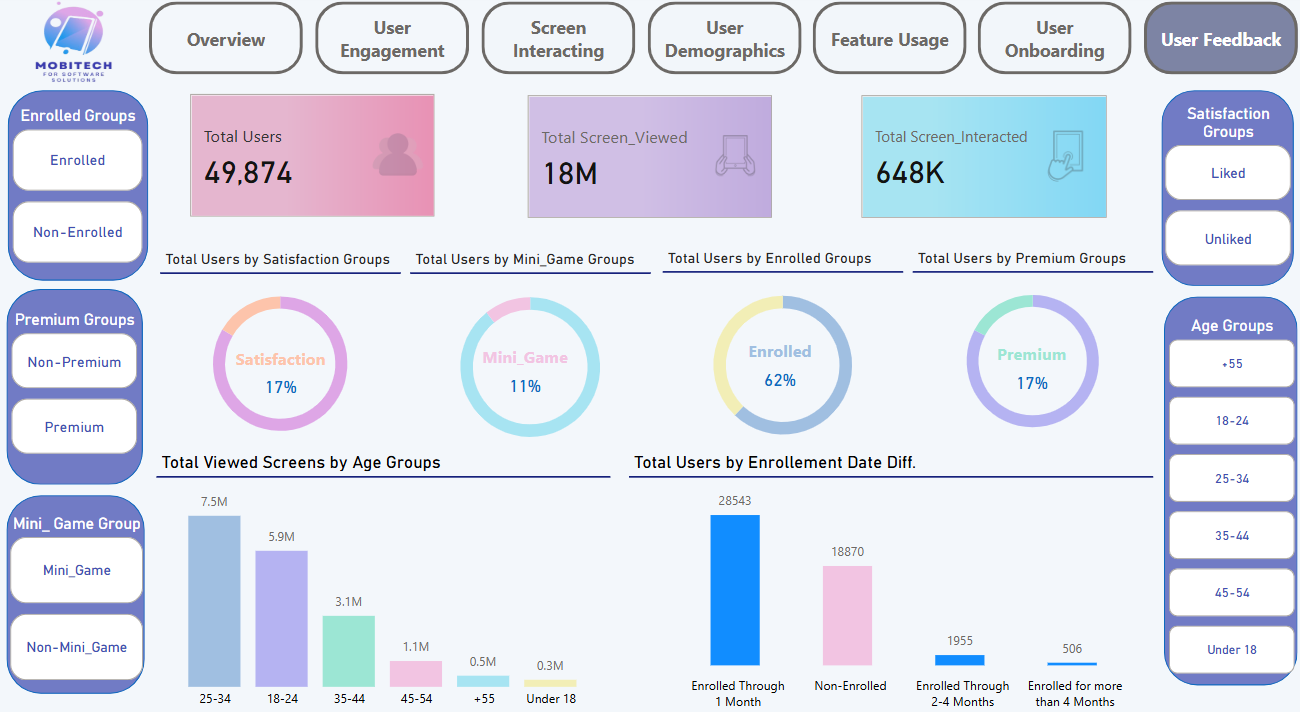

The page's visual inventory and layout, read from the dashboard file:
{"tool":"powerbi","page":{"name":"User Feedback","canvas":[1280,720],"ordinal":9},"visuals":[{"type":"actionButton","box":[634.1,7.9,150.6,71.3],"z":0},{"type":"group","id":"g1","title":"Group 2","box":[8.1,94.1,137.4,186.3],"z":0,"group":"g15"},{"type":"shape","box":[8.1,94.1,137.4,186.3],"z":0,"group":"g1"},{"type":"group","id":"g2","title":"Group 3","box":[1136,94.1,133.4,191.5],"z":0,"group":"g8"},{"type":"shape","box":[1136.8,94.1,129.4,191.5],"z":0,"group":"g2"},{"type":"donutChart","fields":{"Y":["Total.Total Users"],"Category":["appdata10.Enrolled Groups"]},"box":[648.7,249.1,235.1,203.4],"z":0,"group":"g10"},{"type":"donutChart","fields":{"Y":["Total.Total Users"],"Category":["appdata10.Premium Groups"]},"box":[894.3,249.6,235.1,195.5],"z":0,"group":"g11"},{"type":"donutChart","fields":{"Y":["Total.Total Users"],"Category":["appdata10.Satisfaction Groups"]},"box":[157.8,250.8,235.1,198.1],"z":0,"group":"g12"},{"type":"donutChart","title":"Total Users by Mini_Game Groups","fields":{"Y":["Total.Total Users"],"Category":["appdata10.Mini_Game Group"]},"box":[402.4,250.9,235.1,204.7],"z":0,"group":"g13"},{"type":"shape","box":[8,288.5,133.4,191.5],"z":0,"group":"g14"},{"type":"shape","box":[1140.4,295.9,130.8,380.4],"z":0,"group":"g18"},{"type":"group","id":"g3","title":"Group 4","box":[5.8,490,140,194.2],"z":0,"group":"g9"},{"type":"shape","box":[7.5,490,135.2,194.2],"z":0,"group":"g3"},{"type":"actionButton","box":[309.1,7.9,150.6,71.3],"z":1000},{"type":"advancedSlicerVisual","fields":{"Values":["appdata10.Satisfaction Groups"]},"box":[1136,107.4,133.4,165.1],"z":1000,"group":"g2"},{"type":"advancedSlicerVisual","fields":{"Values":["appdata10.Enrolled Groups"]},"box":[8.1,109.5,137.4,158.2],"z":1000,"group":"g1"},{"type":"advancedSlicerVisual","fields":{"Values":["appdata10.Premium Groups"]},"box":[7.9,309,133.4,147.4],"z":1000,"group":"g14"},{"type":"advancedSlicerVisual","fields":{"Values":["appdata10.Age Groups"]},"box":[1140,315.4,133.4,359.7],"z":1000,"group":"g18"},{"type":"cardVisual","fields":{"Data":["Total.Enrolled Percentage %"]},"box":[673.8,316.2,178.3,91.1],"z":1000,"group":"g10"},{"type":"cardVisual","fields":{"Data":["Total.Mini_Game Usage rate"]},"box":[432.2,331.6,166.7,72.4],"z":1000,"group":"g13"},{"type":"cardVisual","fields":{"Data":["Total.Premium Percentage %"]},"box":[947.2,332.9,128.7,64.7],"z":1000,"group":"g11"},{"type":"cardVisual","fields":{"Data":["Total.Satisfaction Rate"]},"box":[211.3,336.4,128.1,66],"z":1000,"group":"g12"},{"type":"advancedSlicerVisual","title":"  Mini_ Game Group","fields":{"Values":["appdata10.Mini_Game Group"]},"box":[5.8,508.2,140,167.9],"z":1000,"group":"g3"},{"type":"actionButton","box":[471.6,7.9,150.6,71.3],"z":2000},{"type":"actionButton","box":[146.6,7.9,150.6,71.3],"z":3000},{"type":"actionButton","box":[796.5,7.9,150.6,71.3],"z":4000},{"type":"actionButton","box":[957.7,7.9,150.6,71.3],"z":5000},{"type":"actionButton","box":[1120.2,7.9,150.6,71.3],"z":6000},{"type":"group","id":"g4","title":"Group 4","box":[894.3,249.6,235.1,195.5],"z":7000},{"type":"group","id":"g5","title":"Group 4","box":[648.7,249.1,235.1,203.4],"z":8000},{"type":"group","id":"g6","title":"Group 4","box":[402.4,250.9,235.1,204.7],"z":9000},{"type":"group","id":"g7","title":"Group 8","box":[157.8,250.8,235.1,198.1],"z":10000},{"type":"group","id":"g8","title":"Group 2","box":[1136,94.1,133.4,191.5],"z":11000},{"type":"group","id":"g9","title":"Group 2","box":[5.8,490,140,194.2],"z":12000},{"type":"group","id":"g10","title":"Group 1","box":[648.7,249.1,235.1,203.4],"z":12001,"group":"g5"},{"type":"group","id":"g11","title":"Group 6","box":[894.3,249.6,235.1,195.5],"z":12001,"group":"g16"},{"type":"group","id":"g12","title":"Group 9","box":[157.8,250.8,235.1,198.1],"z":12001,"group":"g7"},{"type":"group","id":"g13","title":"Group 10","box":[402.4,250.9,235.1,204.7],"z":12001,"group":"g17"},{"type":"group","id":"g14","title":"Group 1","box":[7.9,288.5,133.5,191.5],"z":13000},{"type":"group","id":"g15","title":"Group 1","box":[8.1,94.1,137.4,186.3],"z":14000},{"type":"cardVisual","fields":{"Data":["Total.Total Users"]},"box":[182.3,92.5,249.7,130.8],"z":15000},{"type":"cardVisual","fields":{"Data":["Total.Total Screen_Viewed"]},"box":[512.5,93.8,249.7,130.8],"z":16000},{"type":"group","id":"g16","title":"Group 5","box":[894.3,249.6,235.1,195.5],"z":16001,"group":"g4"},{"type":"group","id":"g17","title":"Group 7","box":[402.4,250.9,235.1,204.7],"z":16001,"group":"g6"},{"type":"cardVisual","fields":{"Data":["Total.Total Screen_Interacted"]},"box":[838.8,93.8,251,130.8],"z":17000},{"type":"clusteredColumnChart","title":"Total Users by Enrollement Date Diff.","fields":{"Category":["appdata10.First open - Enrolled date Diff._Month"],"Y":["Total.Total Users"]},"box":[616.9,447.8,512.5,260.2],"z":18000},{"type":"clusteredColumnChart","title":"Total Viewed Screens by Age Groups","fields":{"Category":["appdata10.age groups"],"Y":["Total.screens viewed by age"]},"box":[154.6,447.8,443.8,260.2],"z":19000},{"type":"group","id":"g18","title":"Group 1","box":[1140,295.9,133.4,380.4],"z":20000},{"type":"image","box":[22,0,101.5,96.6],"z":21000}]}

Visuals, with their boxes in screenshot pixels (x1, y1, x2, y2), scaled from the page's 1280x720 canvas onto the 1300x712 screenshot:
actionButton: x1=644 y1=8 x2=797 y2=78
"Group 2" group: x1=8 y1=93 x2=148 y2=277
shape: x1=8 y1=93 x2=148 y2=277
"Group 3" group: x1=1154 y1=93 x2=1289 y2=282
shape: x1=1155 y1=93 x2=1286 y2=282
donutChart - Total.Total Users x appdata10.Enrolled Groups: x1=659 y1=246 x2=898 y2=447
donutChart - Total.Total Users x appdata10.Premium Groups: x1=908 y1=247 x2=1147 y2=440
donutChart - Total.Total Users x appdata10.Satisfaction Groups: x1=160 y1=248 x2=399 y2=444
"Total Users by Mini_Game Groups" donutChart: x1=409 y1=248 x2=647 y2=451
shape: x1=8 y1=285 x2=144 y2=475
shape: x1=1158 y1=293 x2=1291 y2=669
"Group 4" group: x1=6 y1=485 x2=148 y2=677
shape: x1=8 y1=485 x2=145 y2=677
actionButton: x1=314 y1=8 x2=467 y2=78
advancedSlicerVisual - appdata10.Satisfaction Groups: x1=1154 y1=106 x2=1289 y2=269
advancedSlicerVisual - appdata10.Enrolled Groups: x1=8 y1=108 x2=148 y2=265
advancedSlicerVisual - appdata10.Premium Groups: x1=8 y1=306 x2=144 y2=451
advancedSlicerVisual - appdata10.Age Groups: x1=1158 y1=312 x2=1293 y2=668
cardVisual - Total.Enrolled Percentage %: x1=684 y1=313 x2=865 y2=403
cardVisual - Total.Mini_Game Usage rate: x1=439 y1=328 x2=608 y2=400
cardVisual - Total.Premium Percentage %: x1=962 y1=329 x2=1093 y2=393
cardVisual - Total.Satisfaction Rate: x1=215 y1=333 x2=345 y2=398
"  Mini_ Game Group" advancedSlicerVisual: x1=6 y1=503 x2=148 y2=669
actionButton: x1=479 y1=8 x2=632 y2=78
actionButton: x1=149 y1=8 x2=302 y2=78
actionButton: x1=809 y1=8 x2=962 y2=78
actionButton: x1=973 y1=8 x2=1126 y2=78
actionButton: x1=1138 y1=8 x2=1291 y2=78
"Group 4" group: x1=908 y1=247 x2=1147 y2=440
"Group 4" group: x1=659 y1=246 x2=898 y2=447
"Group 4" group: x1=409 y1=248 x2=647 y2=451
"Group 8" group: x1=160 y1=248 x2=399 y2=444
"Group 2" group: x1=1154 y1=93 x2=1289 y2=282
"Group 2" group: x1=6 y1=485 x2=148 y2=677
"Group 1" group: x1=659 y1=246 x2=898 y2=447
"Group 6" group: x1=908 y1=247 x2=1147 y2=440
"Group 9" group: x1=160 y1=248 x2=399 y2=444
"Group 10" group: x1=409 y1=248 x2=647 y2=451
"Group 1" group: x1=8 y1=285 x2=144 y2=475
"Group 1" group: x1=8 y1=93 x2=148 y2=277
cardVisual - Total.Total Users: x1=185 y1=91 x2=439 y2=221
cardVisual - Total.Total Screen_Viewed: x1=521 y1=93 x2=774 y2=222
"Group 5" group: x1=908 y1=247 x2=1147 y2=440
"Group 7" group: x1=409 y1=248 x2=647 y2=451
cardVisual - Total.Total Screen_Interacted: x1=852 y1=93 x2=1107 y2=222
"Total Users by Enrollement Date Diff." clusteredColumnChart: x1=627 y1=443 x2=1147 y2=700
"Total Viewed Screens by Age Groups" clusteredColumnChart: x1=157 y1=443 x2=608 y2=700
"Group 1" group: x1=1158 y1=293 x2=1293 y2=669
image: x1=22 y1=0 x2=125 y2=96
